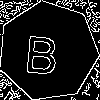B: (23, 26, 61, 75)
